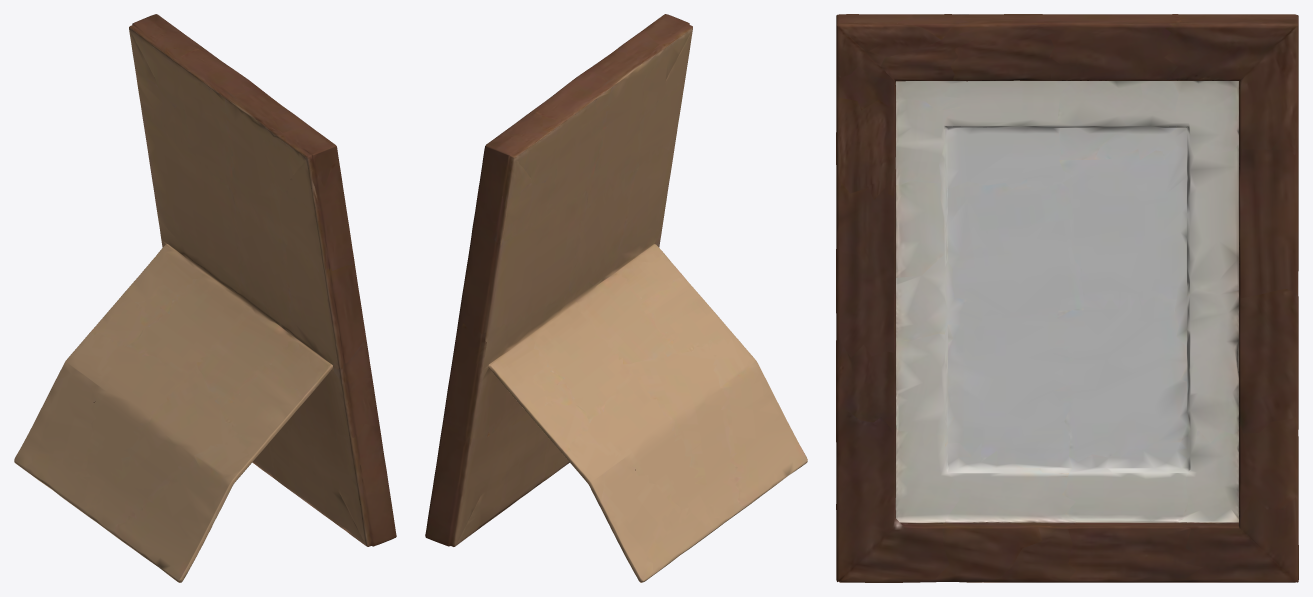
Rendered from frame.glb.
3 views of the same model, side by side, from view 1: azimuth 30°, elevation 25°; view 2: azimuth 150°, elevation 25°; view 3: azimuth 270°, elevation 25° (orthographic). The views are drawn at different scales.
Parts seen in each view (by area): view 1: tripo_node_ffd6e92c-8c59-4681-8c79-1a086169f81f; view 2: tripo_node_ffd6e92c-8c59-4681-8c79-1a086169f81f; view 3: tripo_node_ffd6e92c-8c59-4681-8c79-1a086169f81f.
Boxes of the visible parts, box(x1,y1,x2,y2) form: tripo_node_ffd6e92c-8c59-4681-8c79-1a086169f81f: box(14, 14, 396, 582); tripo_node_ffd6e92c-8c59-4681-8c79-1a086169f81f: box(425, 14, 807, 582); tripo_node_ffd6e92c-8c59-4681-8c79-1a086169f81f: box(836, 14, 1298, 582).
Size of the model in its own units: 0.5371 by 1 by 0.7958.
1 material, 1 textured.
